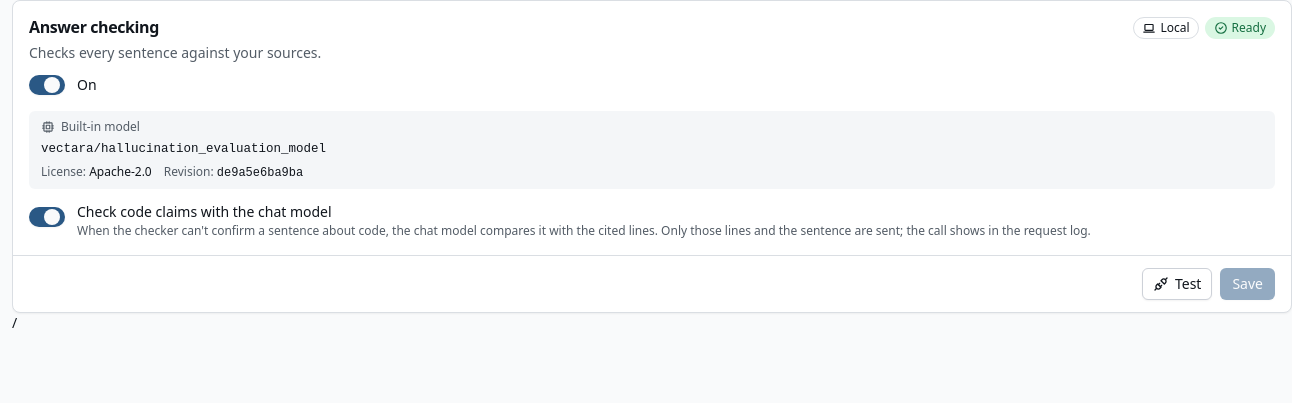
Test: grounding card: code judge (D-045) › greys the code judge out while answer checking is off
Expected: the switch named "check code claims" next to "Check code claims with the chat model" is enabled, [29,207,65,227]
Click the 1st switch named "On".
click(47, 85)  # box [29,75,65,95]
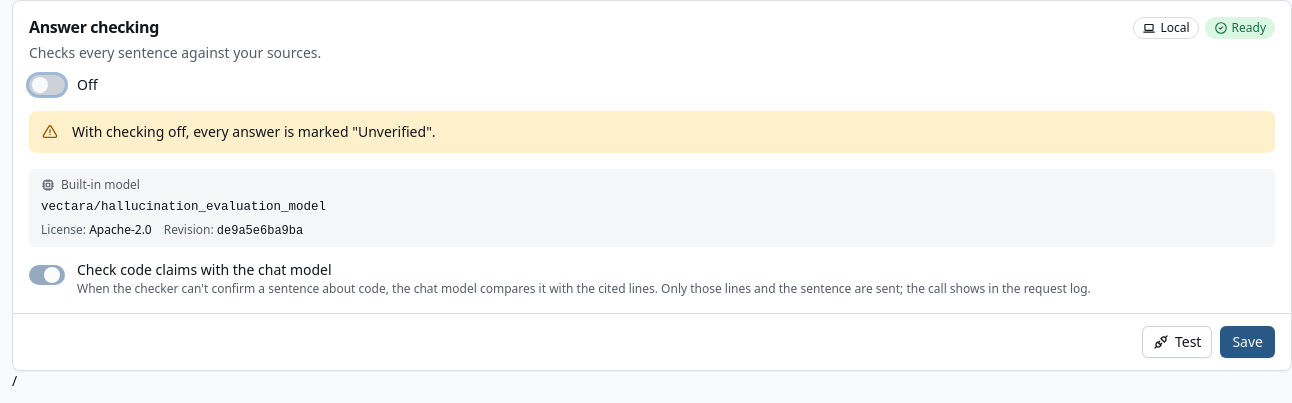
Expected: the switch named "check code claims" next to "Check code claims with the chat model" is disabled, [29,265,65,285]
Expected: the text "With checking off, every answer is marked \"Unverified\"." is shown, [72,122,436,141]
